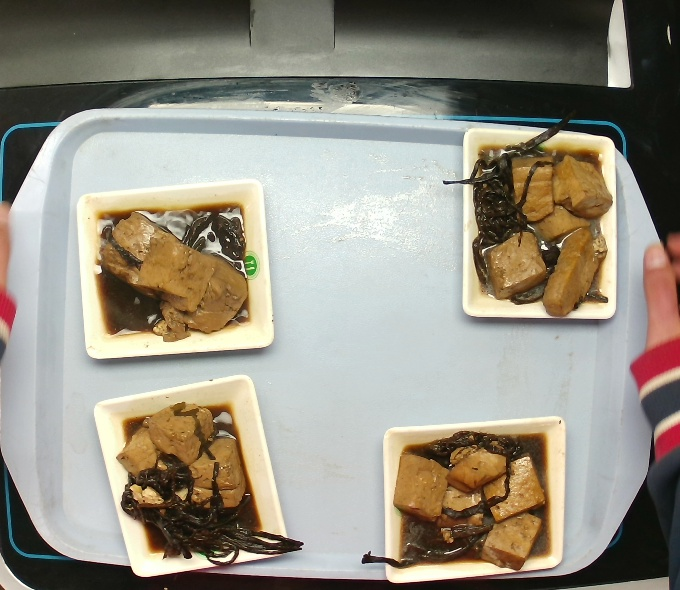wcq-CaiLuDouFu: (459, 126, 619, 320), (119, 388, 286, 569), (378, 412, 556, 581), (95, 194, 251, 342)
